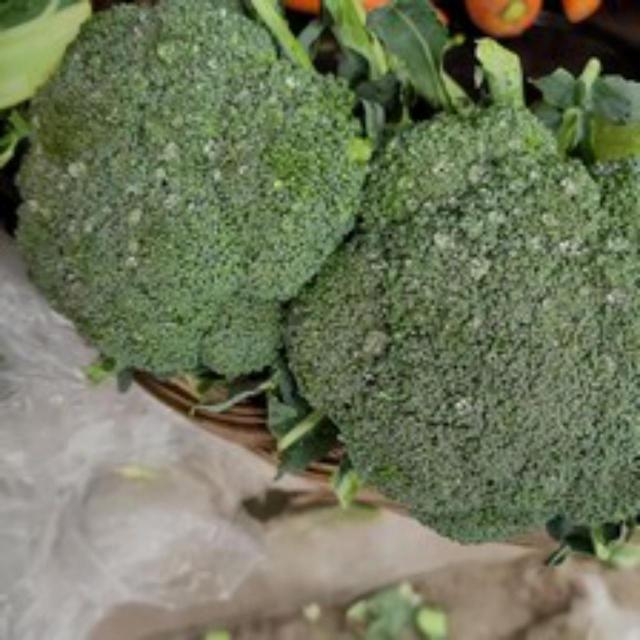broccoli: (17, 0, 394, 400)
